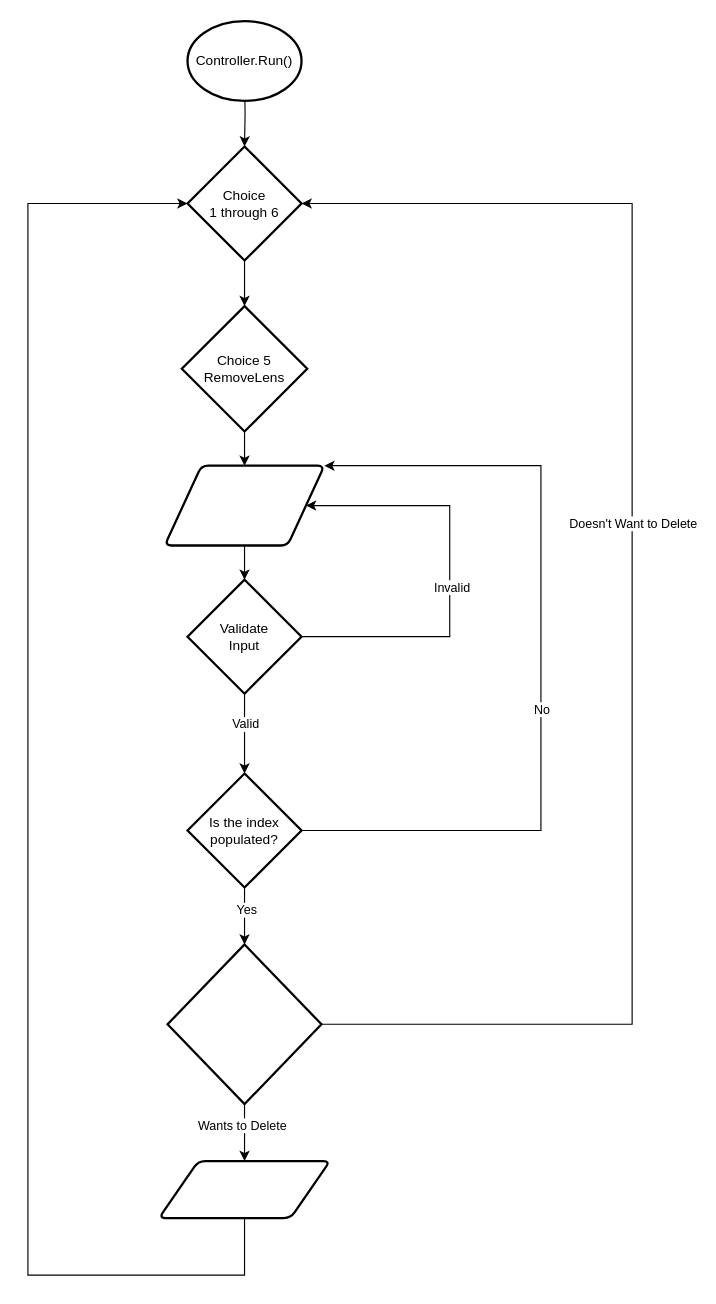
The diagram is 716 pixels wide and 1304 high, and some of its shapes have lost their labels. The centre of each missing label's shape, as x and y in pixels:
"Confirm that user wants to delete Lens object" goes at (244,1024).
"Set index to null" goes at (244,1189).
"Take user input for index of Lenses[ ]" goes at (244,505).
